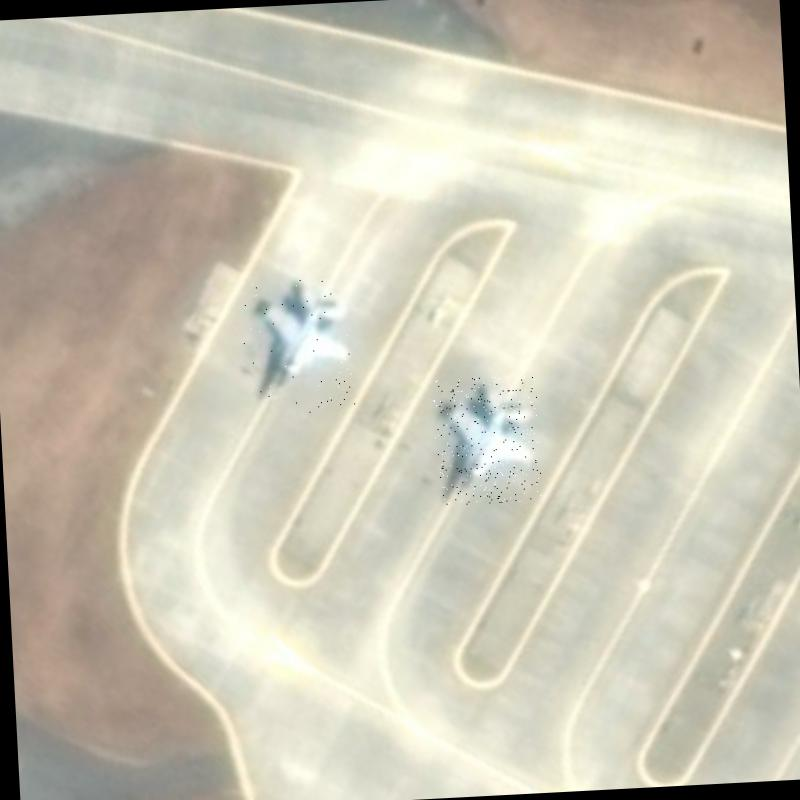A16: (240, 270, 356, 418), (432, 375, 542, 506)
